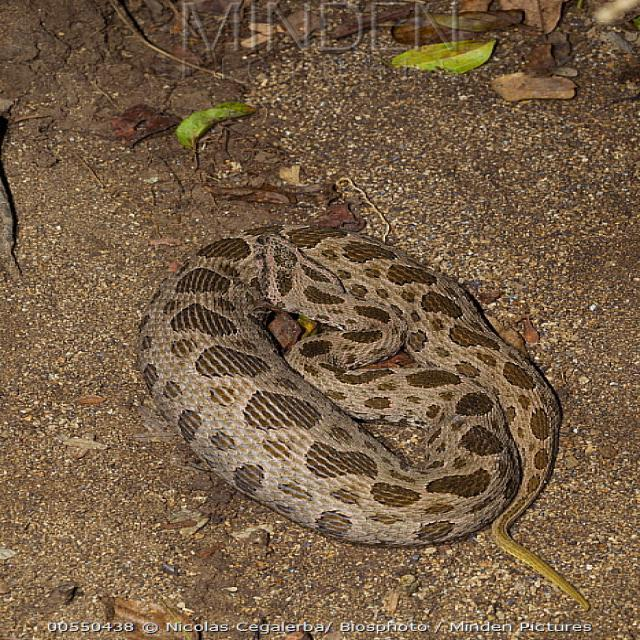Snake: (134, 221, 591, 612)
